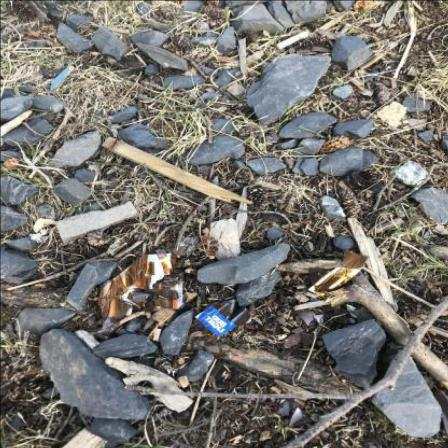Broken glass: (189, 268, 351, 383), (125, 255, 155, 291), (155, 274, 181, 310), (104, 298, 132, 331), (346, 170, 377, 190), (294, 310, 319, 330), (288, 409, 313, 429), (343, 250, 369, 269), (128, 290, 155, 304), (99, 299, 111, 324), (114, 276, 129, 294), (278, 400, 291, 416), (112, 281, 125, 297), (101, 281, 113, 298), (144, 301, 156, 313), (336, 269, 353, 277), (180, 294, 189, 309), (315, 315, 327, 326), (157, 250, 168, 261), (163, 262, 171, 276), (292, 402, 303, 412), (172, 257, 180, 270), (337, 319, 356, 324), (170, 254, 180, 262), (133, 303, 144, 309), (105, 290, 111, 299)
